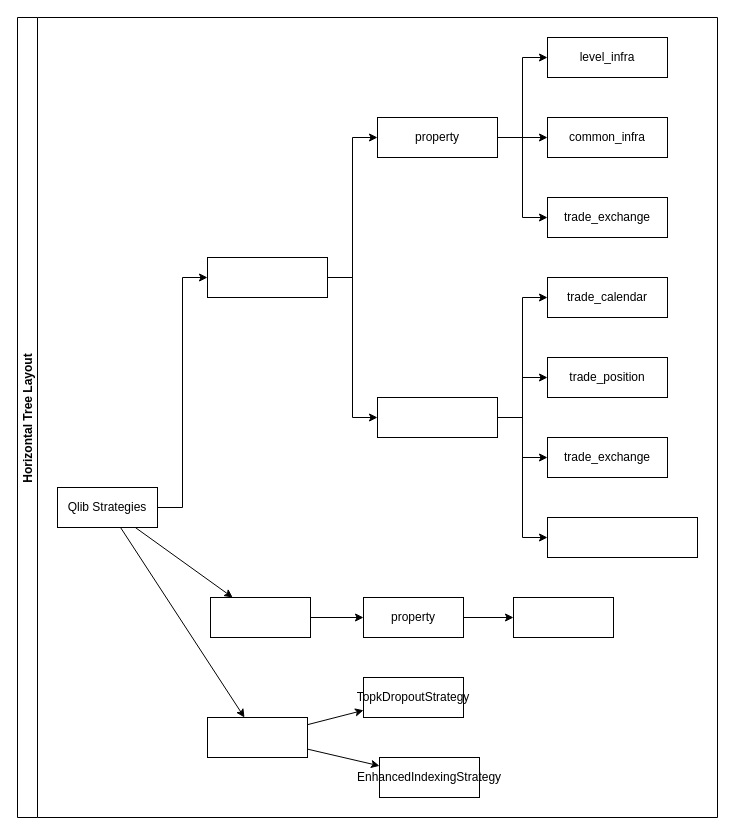
Image size: 735x835. Some labels were removed from this diagram. Each missing label, with the centre of its shape:
"BaseSignalStrategy" belongs at pixel 260 617.
"BaseStrategy" belongs at pixel 267 277.
"BuiltinStrategy" belongs at pixel 257 737.
"generate_trade_exchange" belongs at pixel 622 537.
"method" belongs at pixel 437 417.
"signal" belongs at pixel 563 617.
